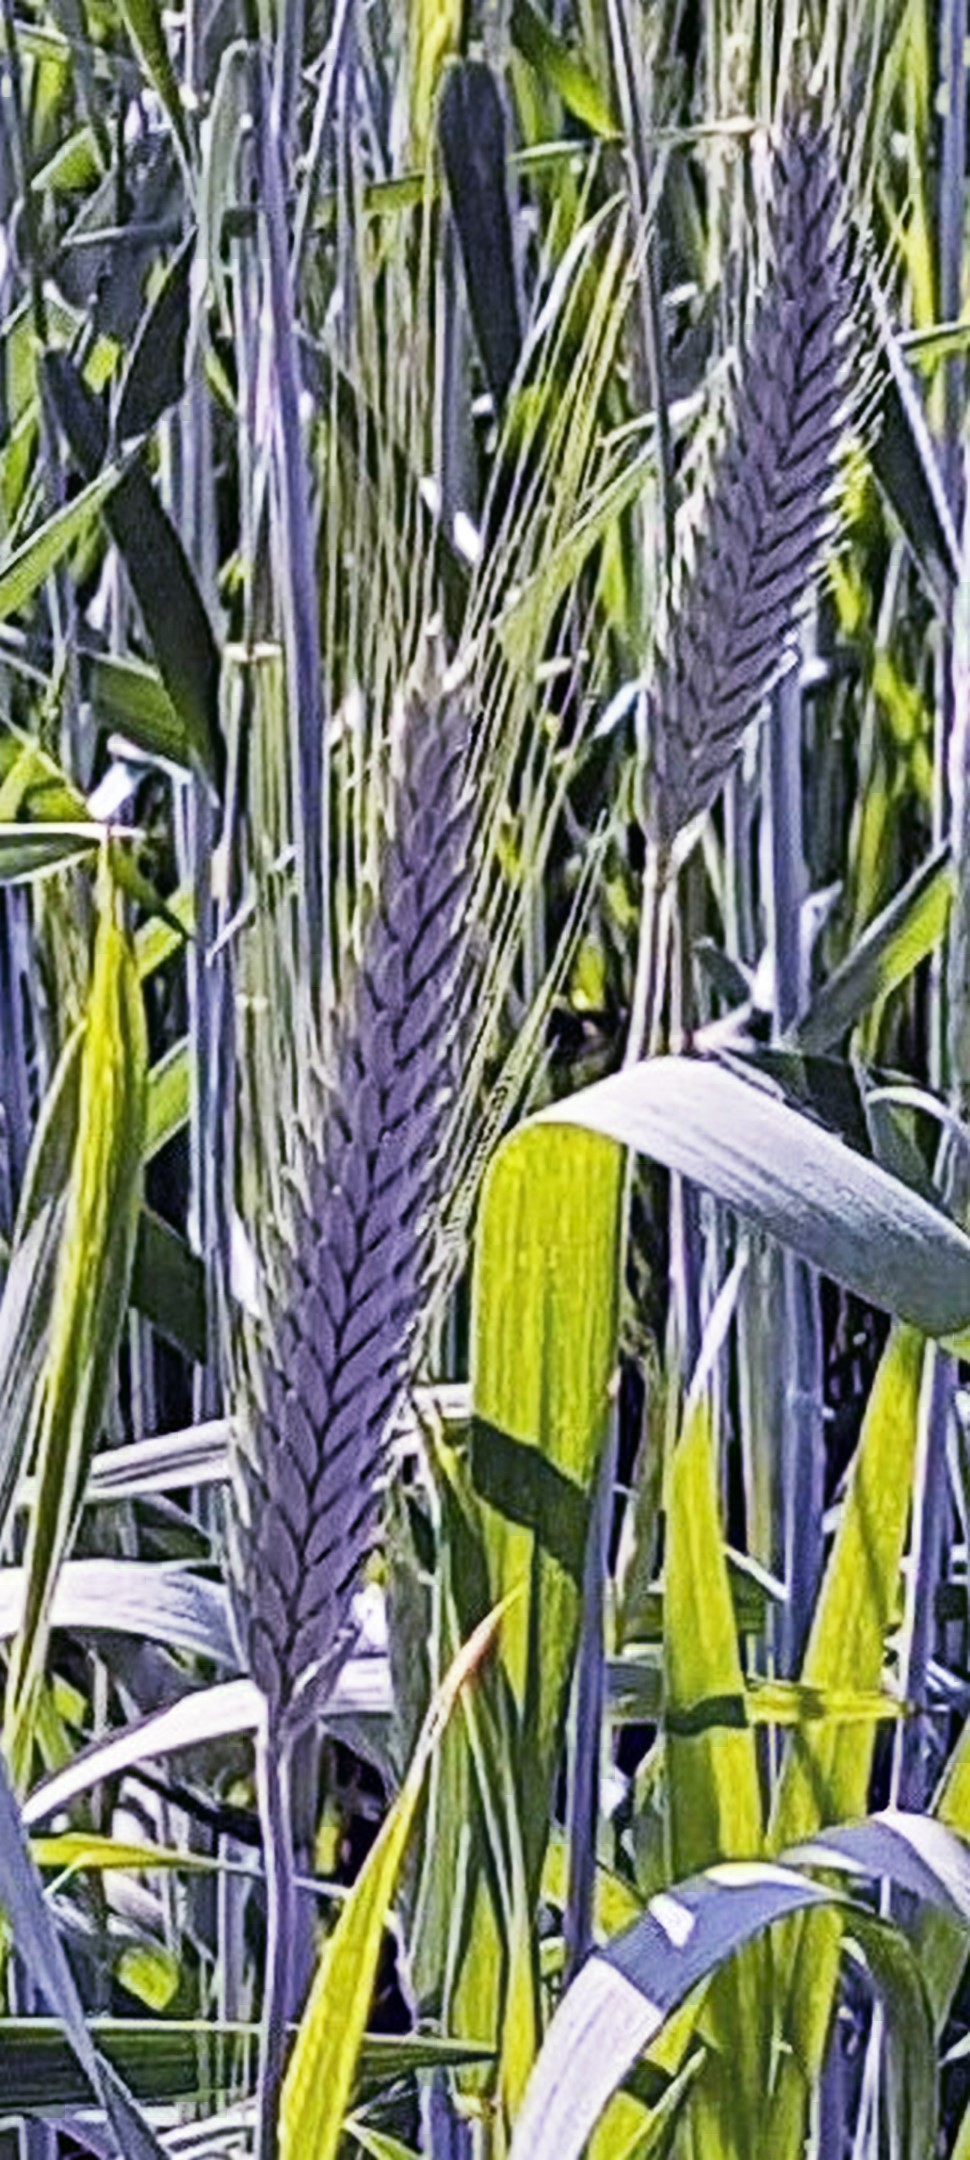Healthy Wheat: (212, 652, 491, 1749), (643, 105, 902, 866)
